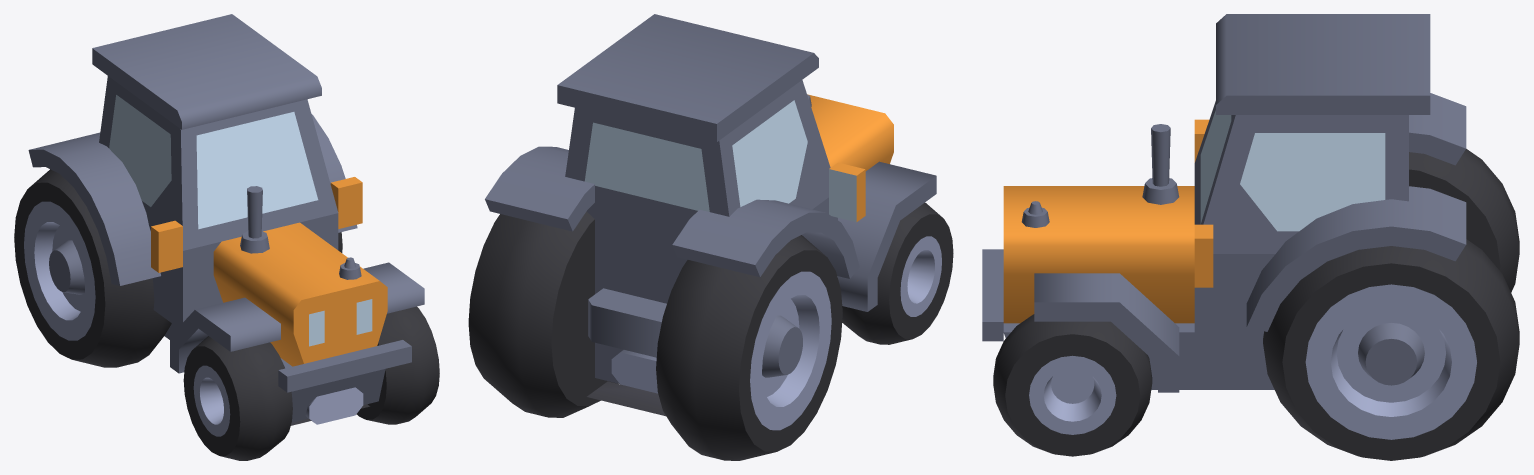
File: vehicle-tractor-yellow.glb
3 views of the same model, side by side, from view 1: azimuth 30°, elevation 25°; view 2: azimuth 150°, elevation 25°; view 3: azimuth 270°, elevation 25° (orthographic). The views are drawn at different scales.
Visible parts, largest first — view 1: body, wheel-back-right, wheel-front-right, wheel-front-left; view 2: body, wheel-back-right, wheel-back-left, wheel-front-right, underside; view 3: body, wheel-back-left, wheel-front-left, wheel-back-right.
Boxes of the visible parts, left/top/right/bottom form: body: left=28, top=14, right=424, bottom=424; wheel-back-right: left=14, top=169, right=171, bottom=367; wheel-front-right: left=183, top=336, right=292, bottom=460; wheel-front-left: left=356, top=306, right=439, bottom=424; body: left=485, top=14, right=936, bottom=393; wheel-back-right: left=656, top=235, right=842, bottom=460; wheel-back-left: left=468, top=211, right=618, bottom=417; wheel-front-right: left=842, top=202, right=953, bottom=344; underside: left=587, top=381, right=665, bottom=416; body: left=982, top=14, right=1466, bottom=392; wheel-back-left: left=1263, top=239, right=1519, bottom=460; wheel-front-left: left=993, top=314, right=1152, bottom=456; wheel-back-right: left=1409, top=149, right=1519, bottom=292.
Size of the model in its own units: 1.34 by 1.6 by 2.2.
1 material, 1 textured.
